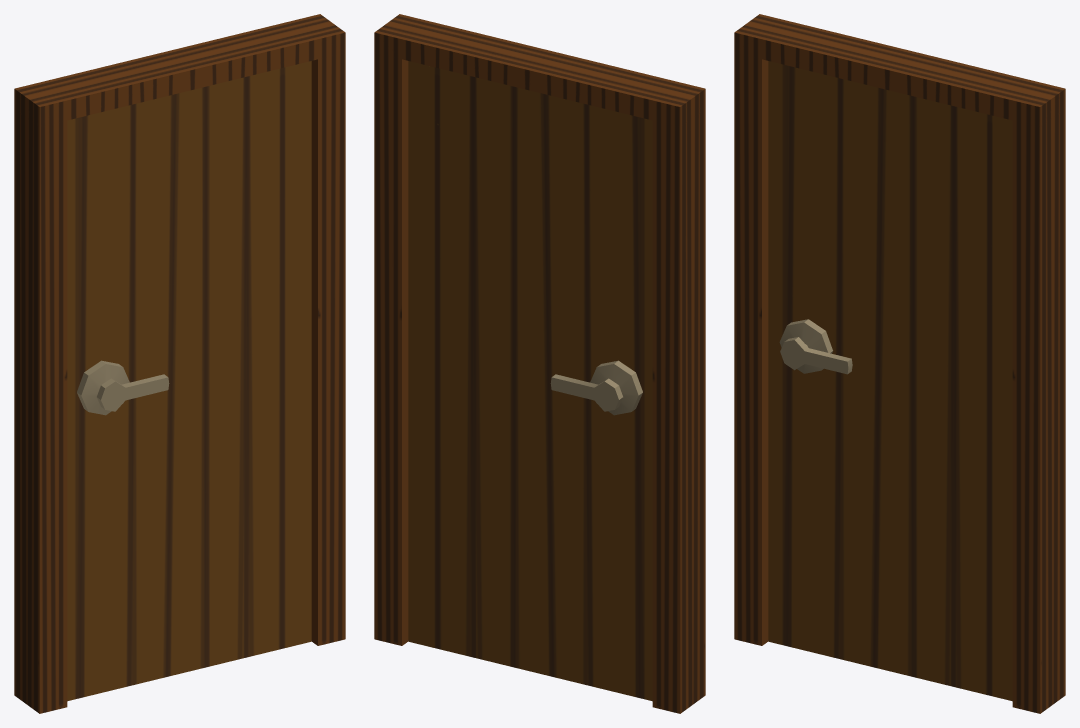
File: Door.glb
3 renders of one model, left to right at view 1: azimuth 30°, elevation 25°; view 2: azimuth 150°, elevation 25°; view 3: azimuth 330°, elevation 25°, orthographic.
Parts seen in each view (by area): view 1: Cube, Cube.001, Cylinder; view 2: Cube, Cube.001, Cylinder; view 3: Cube, Cube.001, Cylinder.
Part boxes in pixels (<box>): Cube: <box>67,61,311,701</box>; Cube.001: <box>14,14,345,713</box>; Cylinder: <box>77,360,169,415</box>; Cube: <box>408,61,652,701</box>; Cube.001: <box>374,14,705,713</box>; Cylinder: <box>550,360,642,415</box>; Cube: <box>768,61,1012,701</box>; Cube.001: <box>734,14,1065,713</box>; Cylinder: <box>779,319,852,374</box>.
Size of the model in its own units: 0.5986 by 1.13 by 0.1383.
3 materials, 2 textured.
